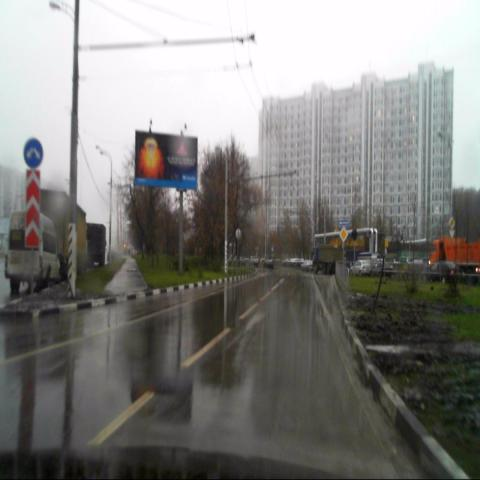4_2_3: (24, 137, 43, 169)
